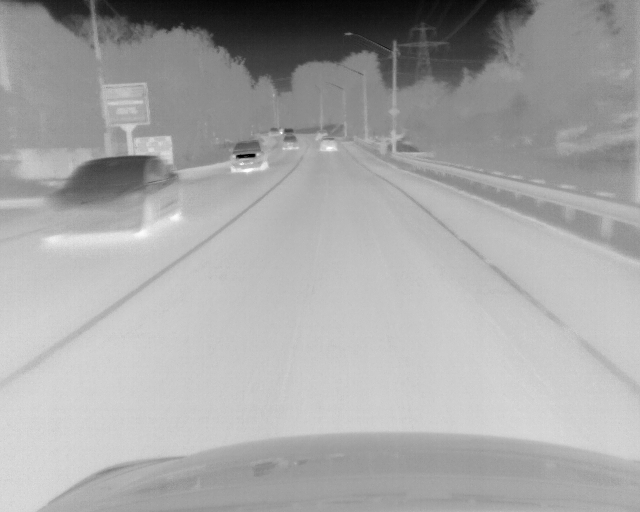car: (48, 154, 189, 237), (230, 139, 270, 174), (319, 136, 336, 152), (282, 131, 296, 150), (313, 128, 328, 141), (268, 127, 280, 138)
